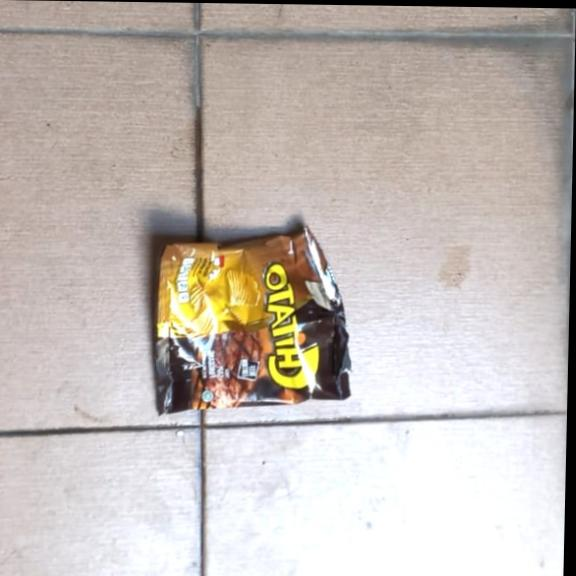Plastik: (149, 222, 355, 419)
